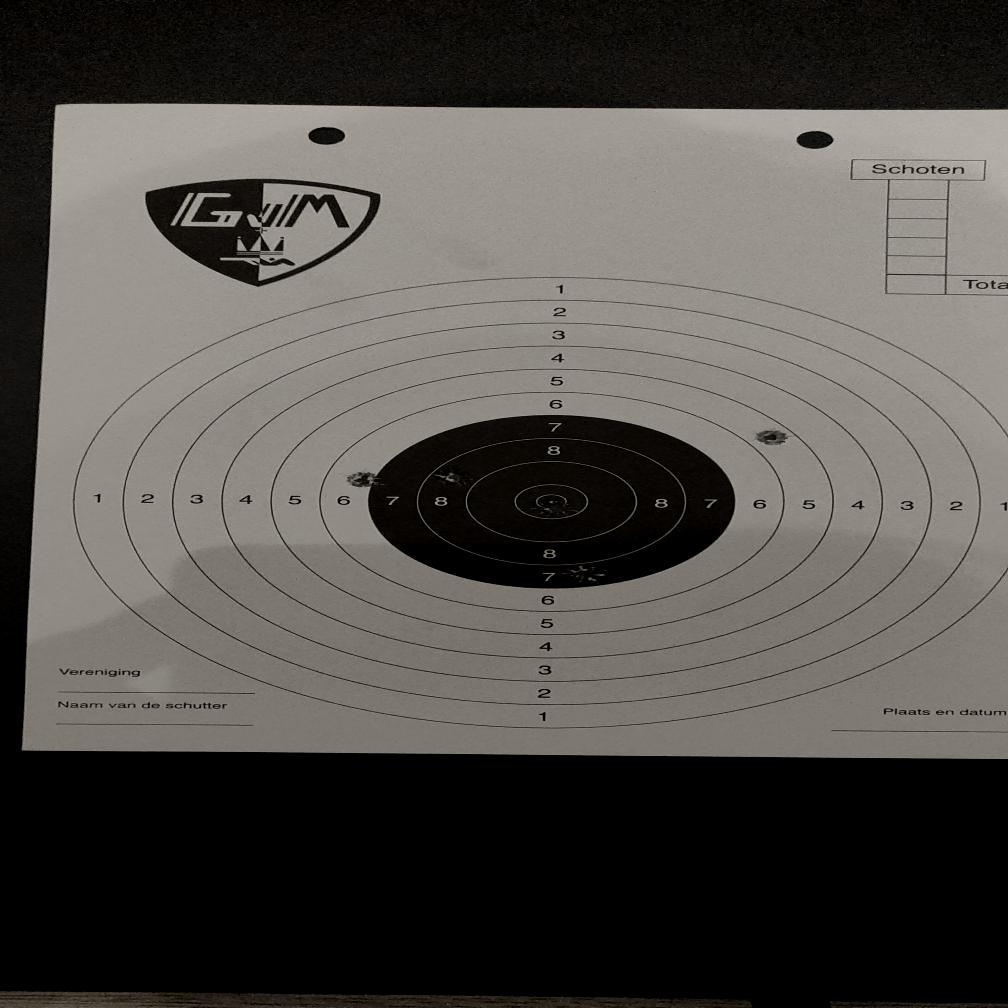10: (531, 500, 578, 516)
5: (753, 430, 791, 446)
7: (560, 564, 612, 583), (344, 472, 387, 488)
8: (432, 467, 473, 485)
Target: (70, 277, 1008, 727)
black_contour: (366, 414, 736, 590)
